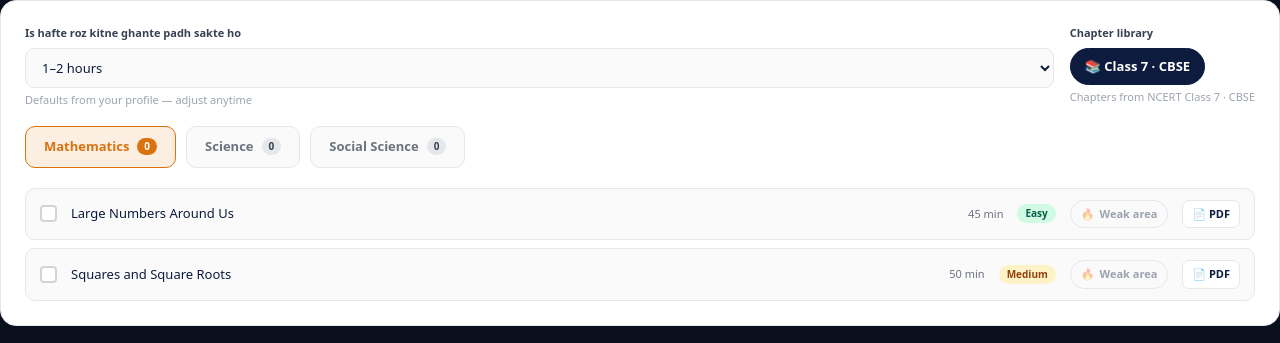
Test: TC-25: switching subject tabs shows that subject's chapters › shows Science chapters after clicking the Science tab
Check: the text "Large Numbers Around Us" is shown, box [71,204,234,222]
Click the button "Science 0" at x=243, y=147, box [186,126,300,168]
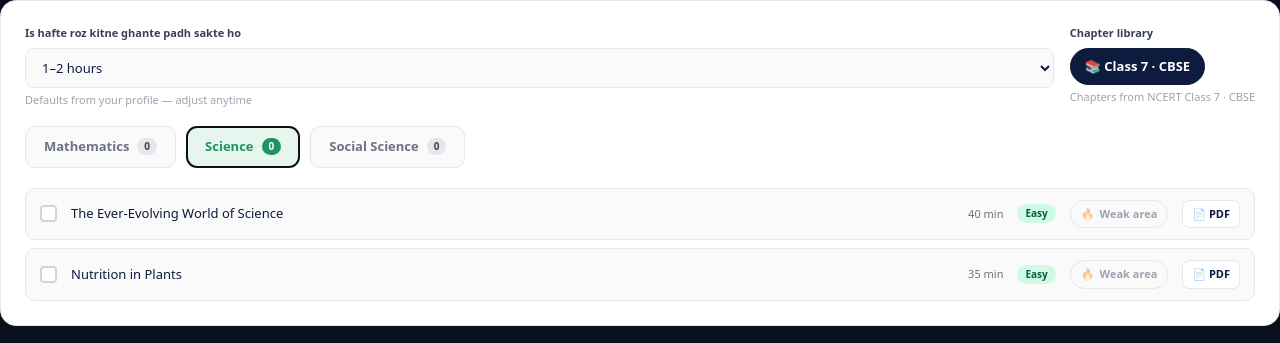
Check: the text "The Ever-Evolving World of Science" is shown, box [71,204,283,222]
Check: the button "Large Numbers Around Us" is gone
